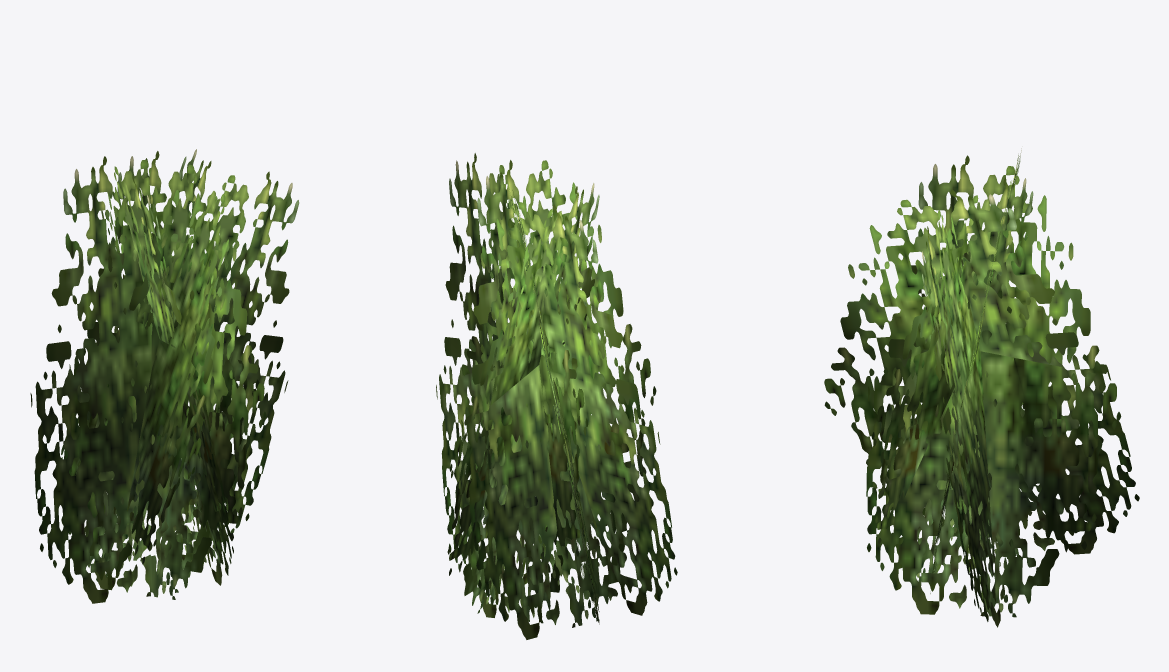
File: shrub-3.glb
3 renders of one model, left to right at view 1: azimuth 30°, elevation 25°; view 2: azimuth 150°, elevation 25°; view 3: azimuth 270°, elevation 25°, orthographic. The views are drawn at different scales.
Parts seen in each view (by area): view 1: shrub-3; view 2: shrub-3; view 3: shrub-3.
Part boxes in pixels (bbox=[...]): shrub-3: bbox=[30, 149, 299, 603]; shrub-3: bbox=[436, 153, 677, 639]; shrub-3: bbox=[824, 148, 1139, 627].
Size of the model in its own units: 2.12 by 3.73 by 2.58.
Materials: 1 (1 with a texture image).
